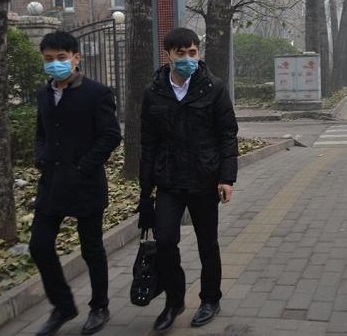person: (127, 24, 243, 334), (22, 28, 124, 336)
